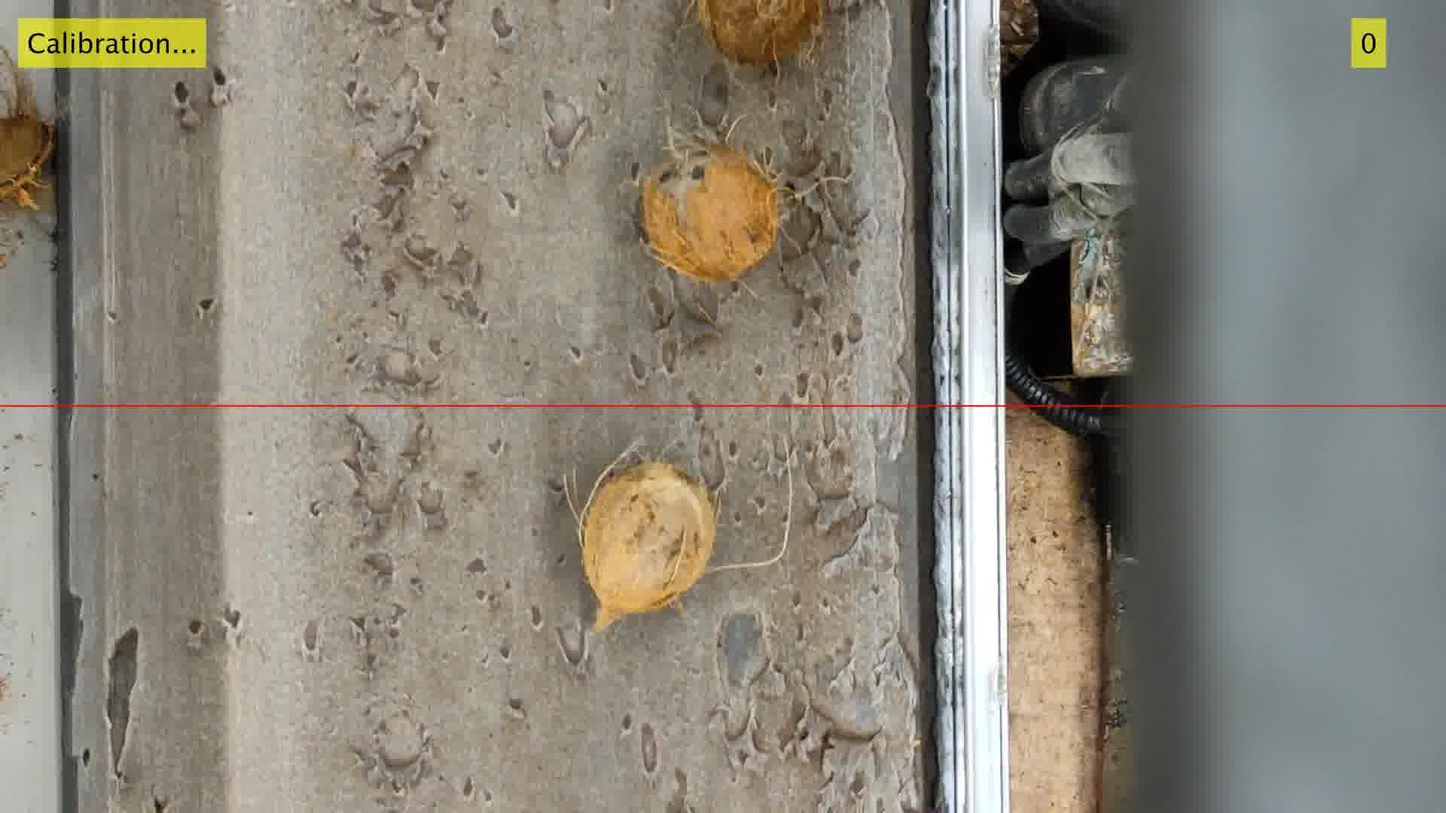Coconut: (573, 444, 793, 632), (636, 119, 795, 281), (578, 446, 717, 631), (0, 47, 56, 209), (694, 0, 824, 65)
